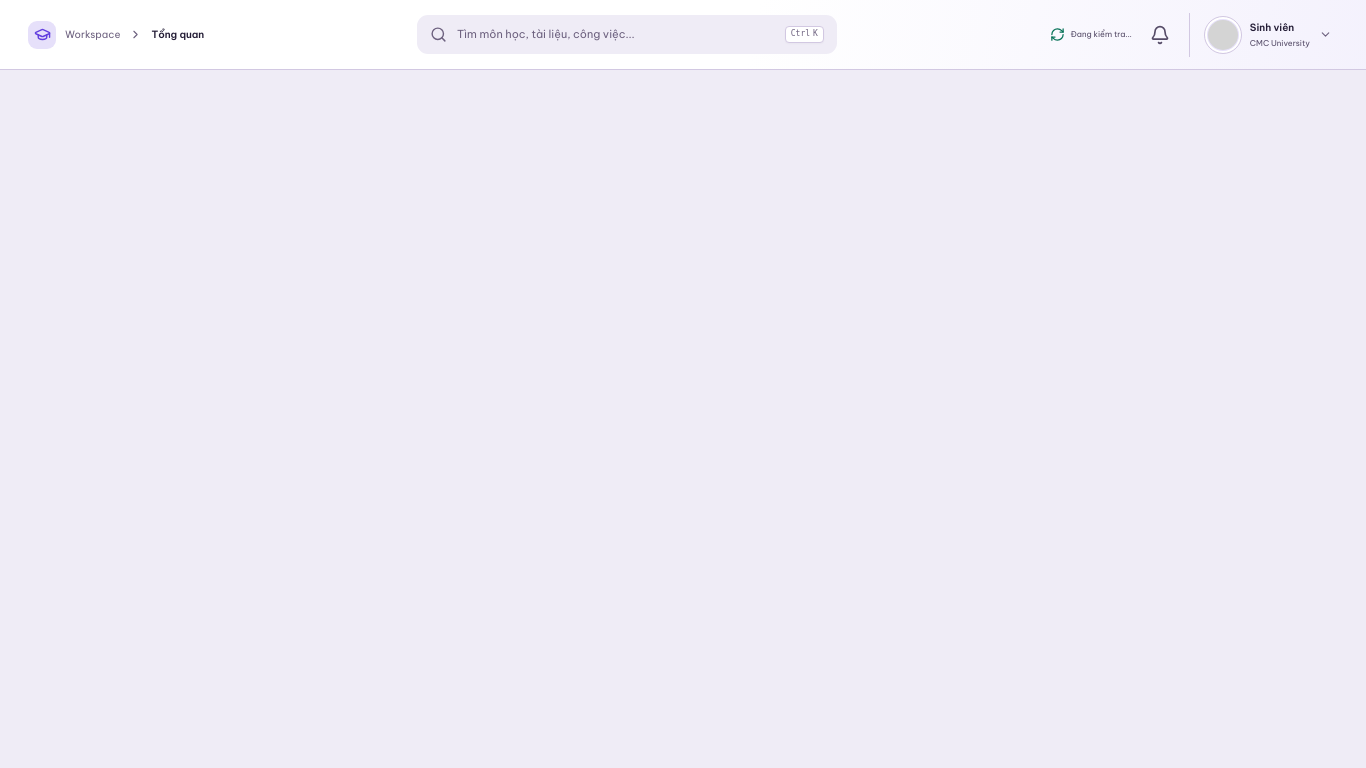
it: Compatibility with actual backend request/response fields › renders singular search result types returned by the workspace service
Click the button "Tìm môn học, tài liệu, công việc... Ctrl K". click: (627, 34)
box: [417,15,837,54]
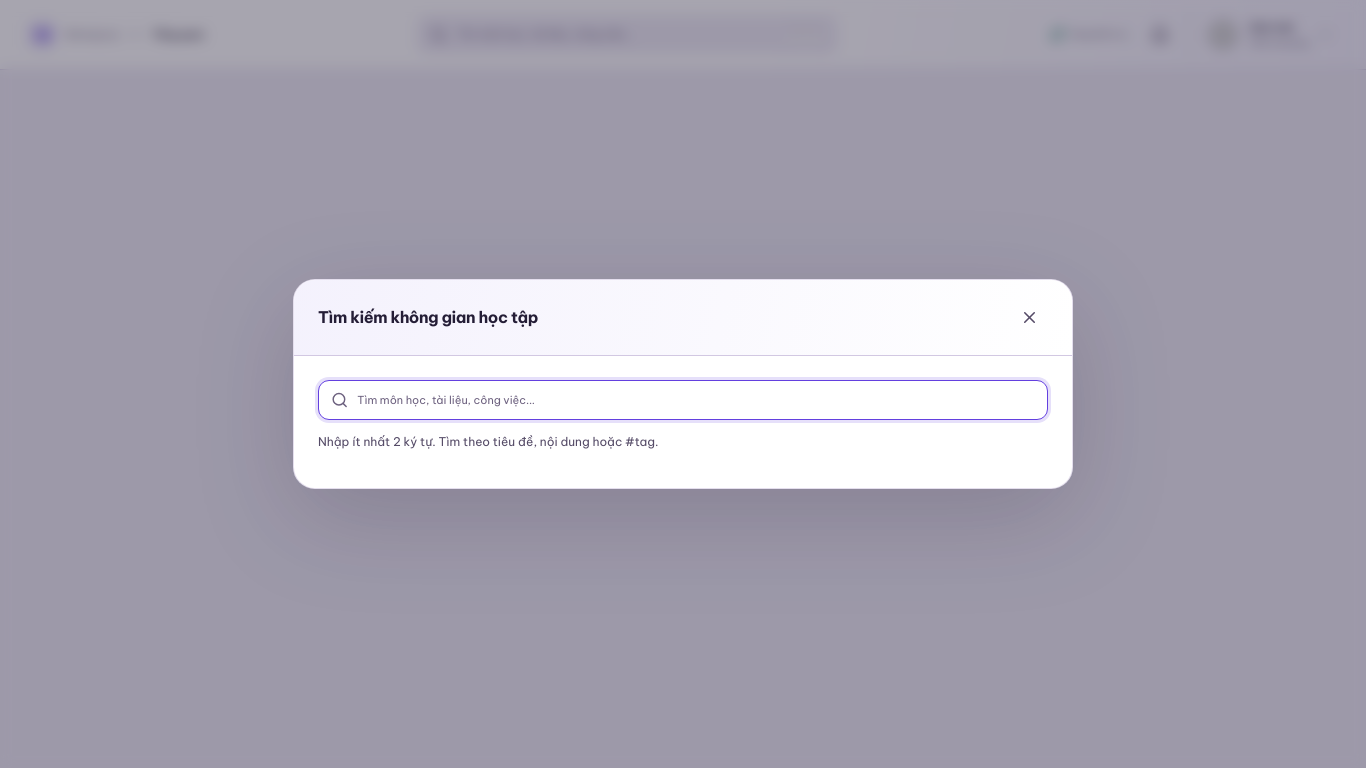
Type "kết quả" into the field named "Tìm kiếm toàn bộ". click: (696, 400)
box: [357,382,1035,419]
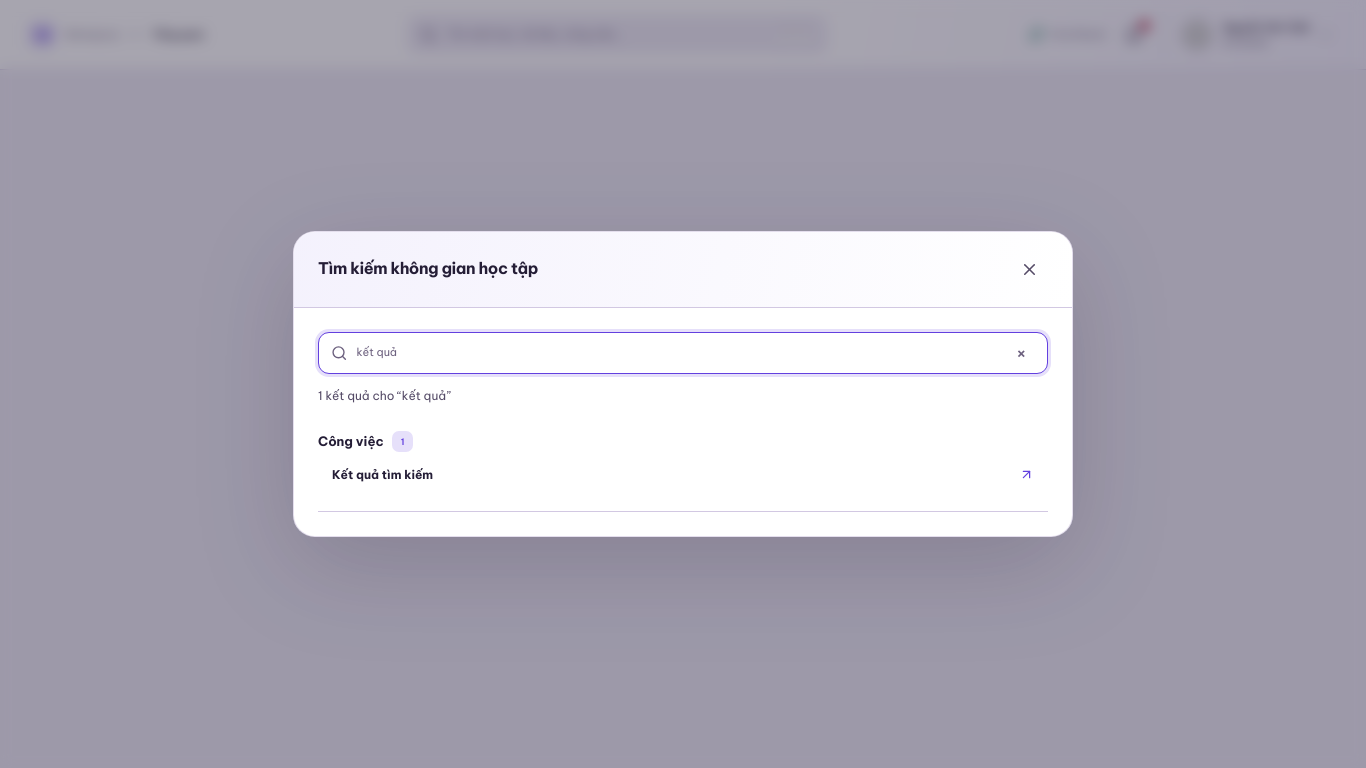
Now the button "Kết quả tìm kiếm" is shown, box [318,452,1048,498]
